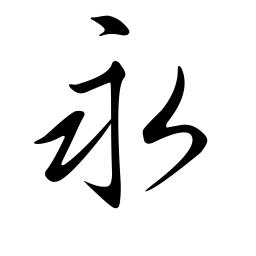D: (87, 12, 133, 40)
HSZ: (103, 58, 128, 96)
Hs: (67, 78, 100, 95)
Ne: (142, 164, 180, 195)
PNc: (141, 118, 176, 146)
PZe: (93, 113, 110, 143)
Ps: (172, 64, 189, 100)
SG: (82, 178, 125, 209)
Sm: (108, 145, 122, 166)
TPZ: (57, 107, 85, 140)
Ts: (33, 132, 51, 148)
